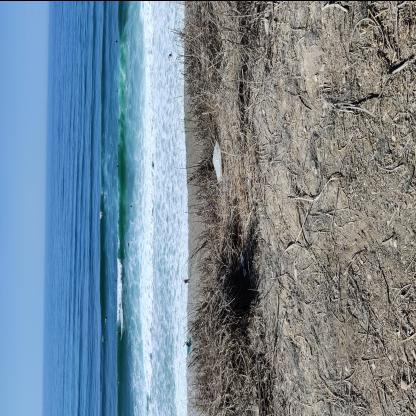plastik: (212, 139, 222, 181)
